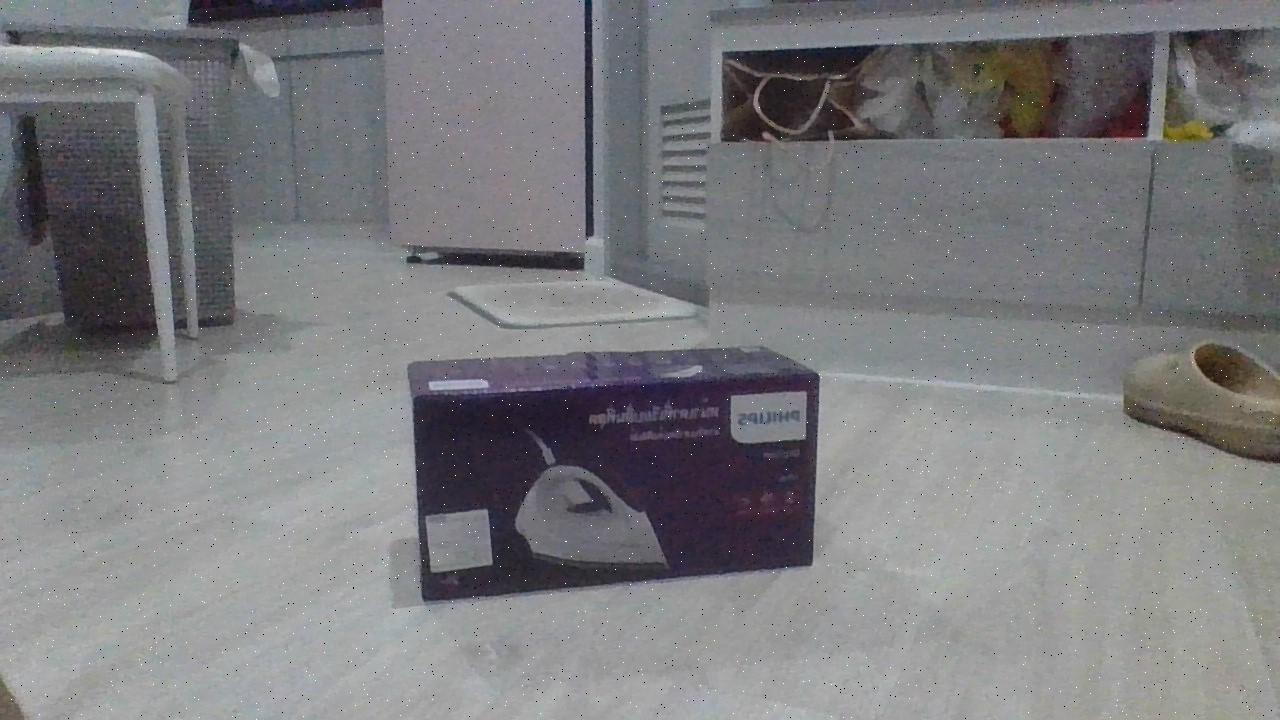IRON: (404, 340, 825, 607)
